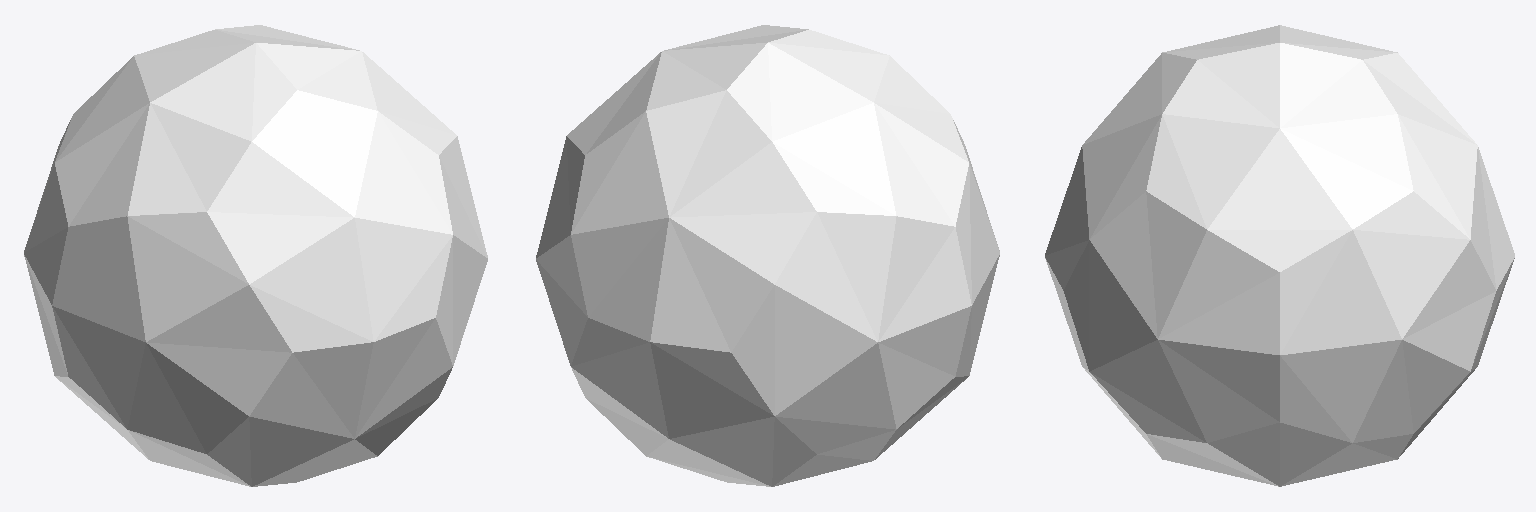
The model's file is asteroid1.obj.
3 renders of one model, left to right at view 1: azimuth 30°, elevation 25°; view 2: azimuth 150°, elevation 25°; view 3: azimuth 270°, elevation 25°, orthographic.
Parts seen in each view (by area): view 1: dodecahedron6; view 2: dodecahedron6; view 3: dodecahedron6.
Part boxes in pixels (bbox=[...]): dodecahedron6: bbox=[24, 25, 487, 486]; dodecahedron6: bbox=[536, 25, 999, 486]; dodecahedron6: bbox=[1045, 25, 1514, 486].
Bounding box in the file's own units: 2.79 × 2.79 × 2.79.